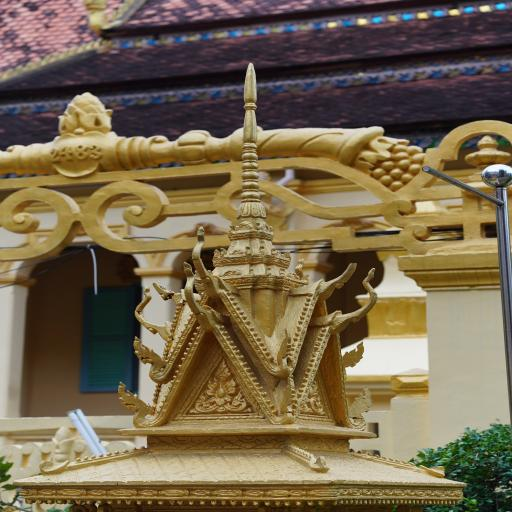hoa: (196, 355, 248, 414), (305, 381, 329, 417)
ran: (115, 382, 154, 430), (133, 338, 171, 384), (349, 385, 377, 433), (344, 340, 366, 369)
